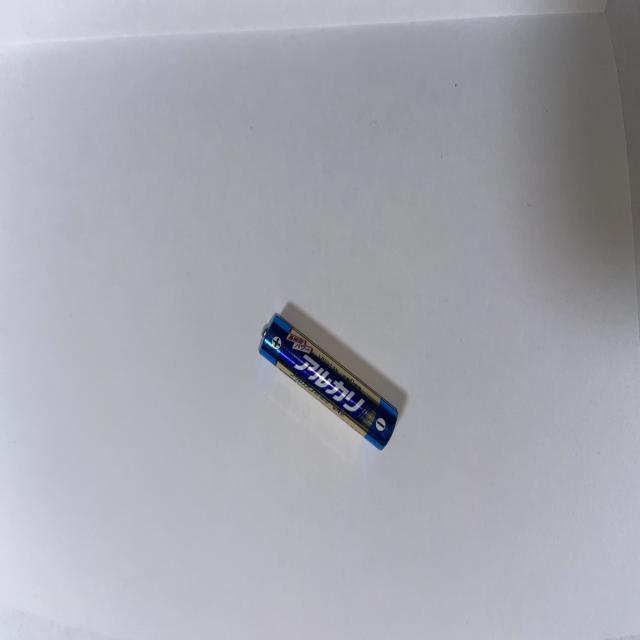Hazard: (256, 310, 399, 453)
